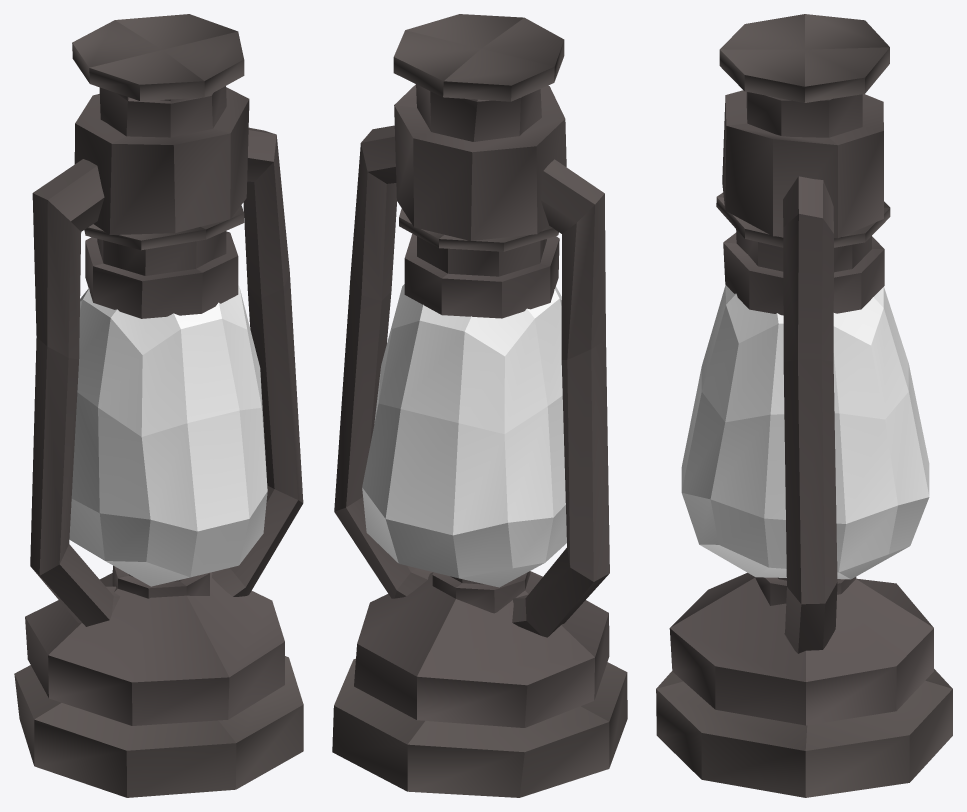
File: Oil_Lamp 1.fbx
The picture shows the model from 3 angles, left to right: view 1: azimuth 30°, elevation 25°; view 2: azimuth 150°, elevation 25°; view 3: azimuth 270°, elevation 25°; orthographic projection.
Visible parts, largest first — view 1: Oil_Lamp; view 2: Oil_Lamp; view 3: Oil_Lamp.
Part boxes in pixels (box(x1,y1,x2,y2)): Oil_Lamp: box(14, 14, 303, 797); Oil_Lamp: box(332, 14, 627, 797); Oil_Lamp: box(656, 14, 952, 797).
Bounding box in the file's own units: 22.2 × 54.47 × 21.35.
